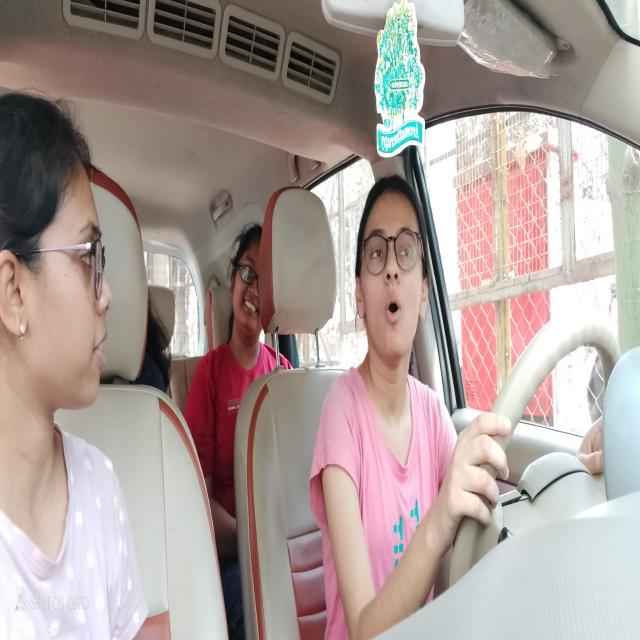LeftRight: (352, 166, 432, 375)
person: (0, 82, 114, 414), (230, 220, 266, 352)
talking: (92, 320, 111, 372), (381, 290, 403, 322)
